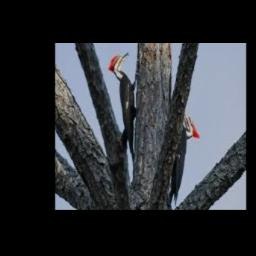Woodpecker: (109, 52, 139, 162), (169, 106, 200, 205)
